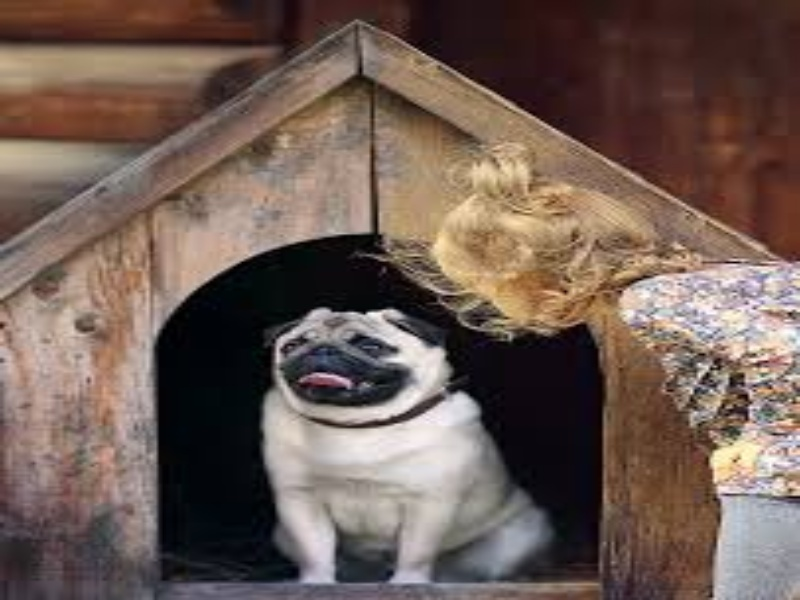dog: (254, 306, 561, 592)
